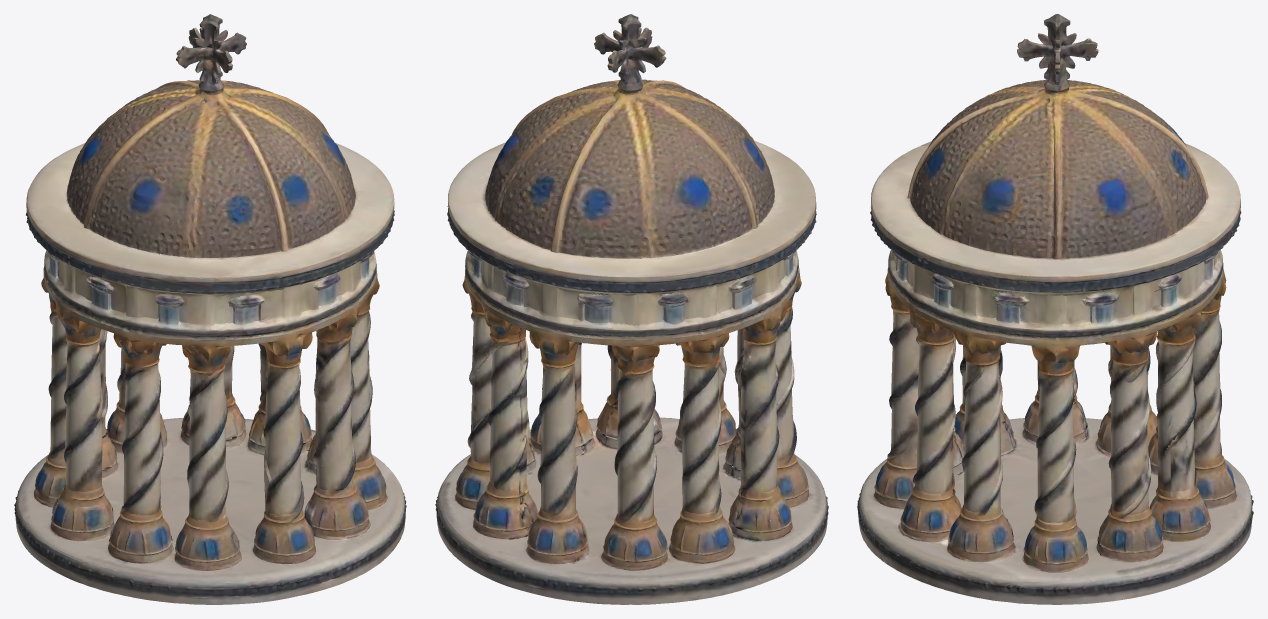
File: rook_white.glb
3 renders of one model, left to right at view 1: azimuth 30°, elevation 25°; view 2: azimuth 150°, elevation 25°; view 3: azimuth 270°, elevation 25°, orthographic.
Visible parts, largest first — view 1: model; view 2: model; view 3: model.
Boxes of the visible parts, x1,y1,x2,y2 form: model: [14, 14, 406, 604]; model: [435, 14, 828, 604]; model: [857, 14, 1253, 604].
Size of the model in its own units: 1.33 by 1.9 by 1.33.
Materials: 1 (1 with a texture image).
